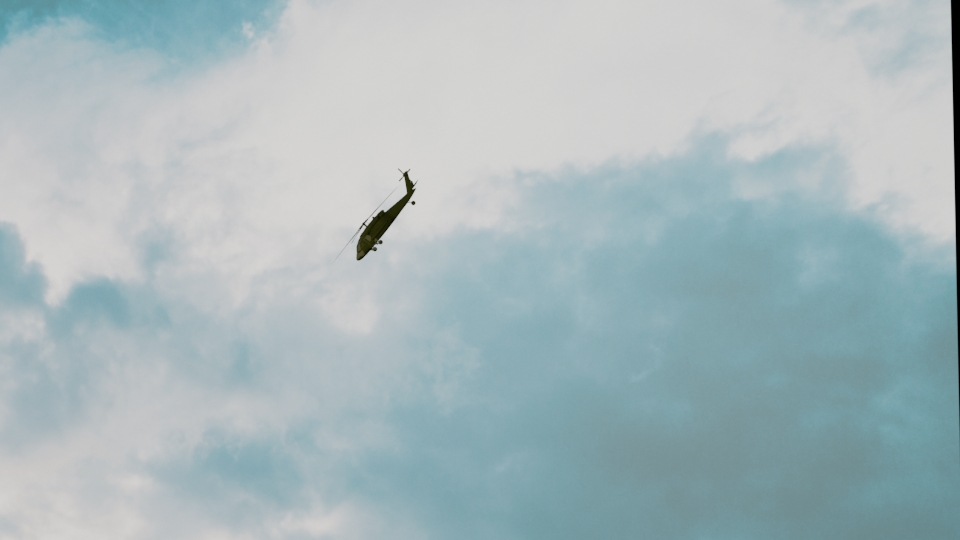heli: (351, 166, 419, 261)
